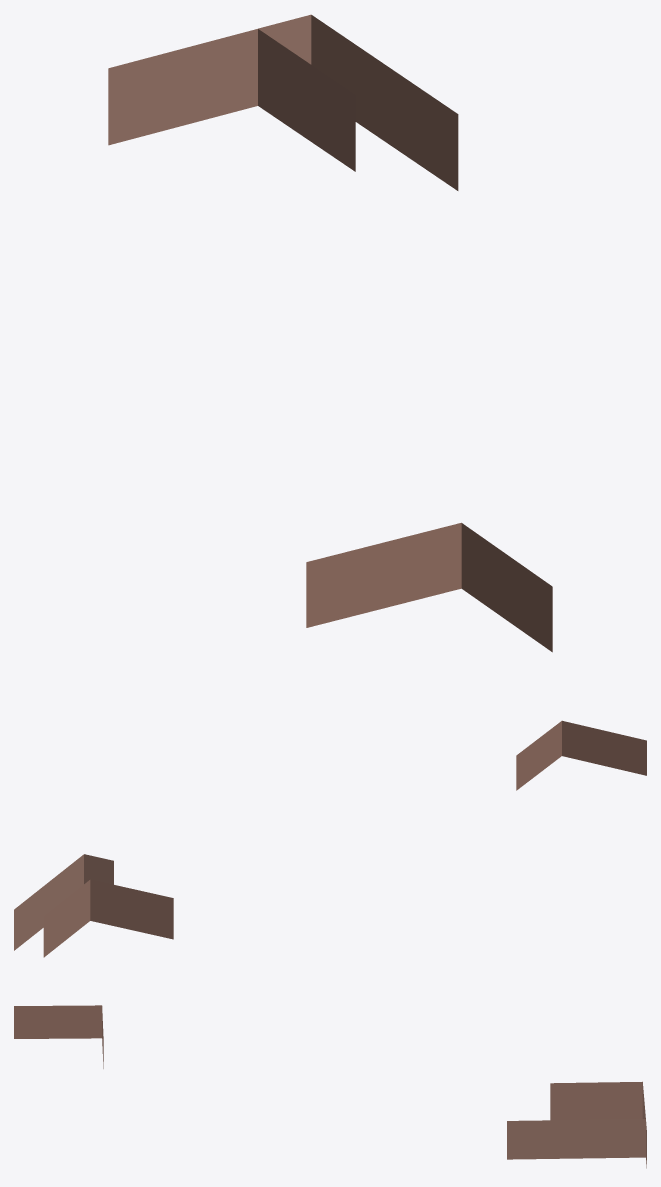
Rendered from c_1632_17827_buildings_residential.glb.
3 views of the same model, one above another, from view 1: azimuth 30°, elevation 25°; view 2: azimuth 150°, elevation 25°; view 3: azimuth 270°, elevation 25° (orthographic). The views are drawn at different scales.
Visible parts, largest first — view 1: geometry_0; view 2: geometry_0; view 3: geometry_0.
Part boxes in pixels (x1,y1,x2,y2): geometry_0: (108,14,552,652); geometry_0: (14,720,646,957); geometry_0: (14,1005,646,1168).
Size of the model in its own units: 83.23 by 11.57 by 164.
